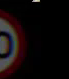Speed limit: (1, 8, 26, 77)
